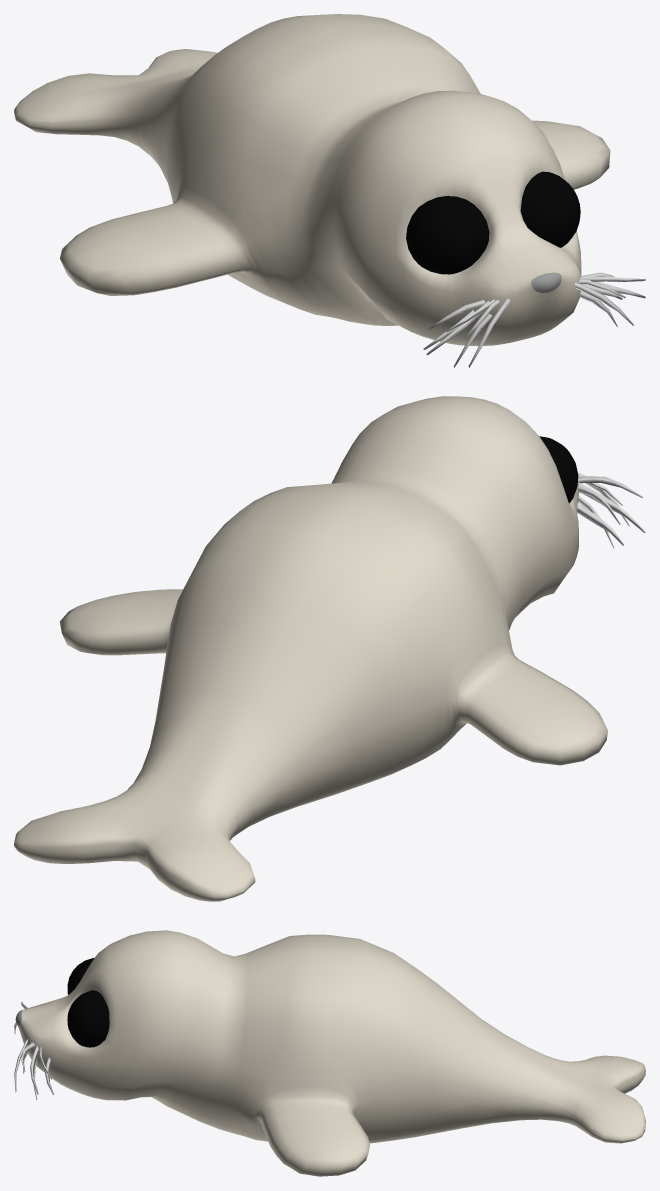
Rendered from Seal.FBX.
The picture shows the model from 3 angles, top to bottom: view 1: azimuth 30°, elevation 25°; view 2: azimuth 150°, elevation 25°; view 3: azimuth 270°, elevation 25°; orthographic projection. The views are drawn at different scales.
Parts seen in each view (by area): view 1: Seal_Body, Seal_EyeR, Seal_EyeL, Seal_Whiskers; view 2: Seal_Body, Seal_Whiskers, Seal_EyeR; view 3: Seal_Body, Seal_EyeL, Seal_Whiskers, Seal_EyeR.
Part boxes in pixels (box(x1,y1,x2,y2)): Seal_Body: box(14, 14, 610, 346); Seal_EyeR: box(406, 196, 489, 274); Seal_EyeL: box(520, 171, 580, 247); Seal_Whiskers: box(423, 272, 645, 367); Seal_Body: box(14, 396, 607, 901); Seal_Whiskers: box(577, 472, 645, 548); Seal_EyeR: box(539, 436, 578, 503); Seal_Body: box(18, 930, 645, 1176); Seal_EyeL: box(67, 990, 109, 1047); Seal_Whiskers: box(14, 1002, 53, 1099); Seal_EyeR: box(67, 958, 93, 994).
Bounding box in the file's own units: 106 × 50.05 × 151.
